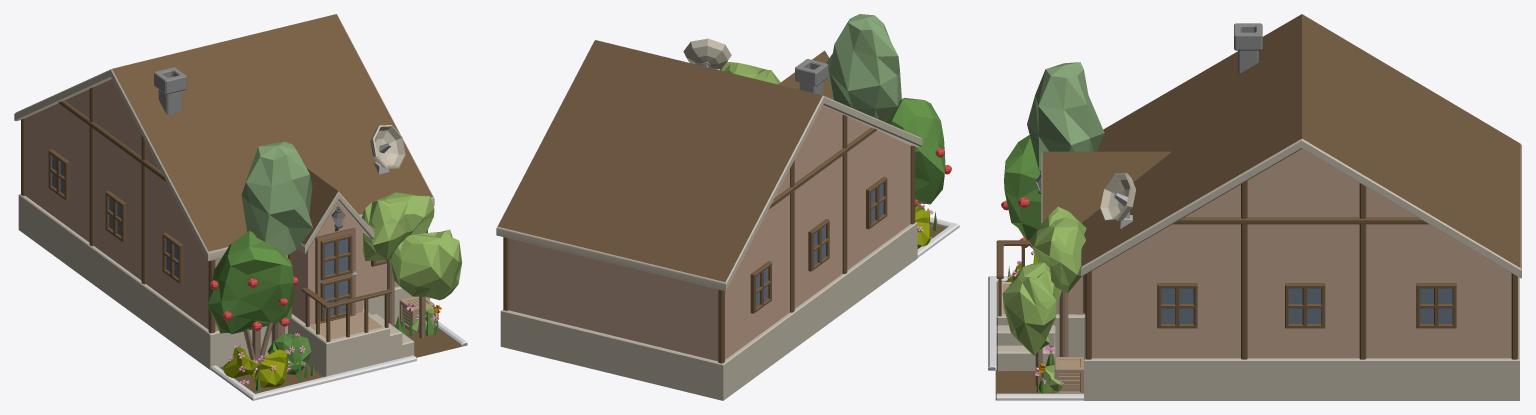
The model's file is casa_1_altura_b.fbx.
3 views of the same model, side by side, from view 1: azimuth 30°, elevation 25°; view 2: azimuth 150°, elevation 25°; view 3: azimuth 270°, elevation 25° (orthographic). The views are drawn at different scales.
Parts seen in each view (by area): view 1: casa_1_altura_a, casa_1_altura_a1, arbol_9, arbol_8, arbol_12, arbol_11, CASA_2_alturas3, ventana_192, antena1, pCube194, ventana_193, puerta_25 (+11 smaller); view 2: casa_1_altura_a, arbol_8, arbol_9, antena1, pCube194, ventana_201, ventana_200, ventana_199, pCube193, pCube191, pCube192, arbol_11 (+6 smaller); view 3: casa_1_altura_a, casa_1_altura_a1, arbol_8, arbol_12, arbol_11, arbol_9, CASA_2_alturas3, pCube186, ventana_196, ventana_198, ventana_197, antena1 (+7 smaller).
Part boxes in pixels (x1,y1,x2,y2): casa_1_altura_a: (14, 14, 434, 370); casa_1_altura_a1: (288, 168, 414, 376); arbol_9: (207, 231, 298, 365); arbol_8: (241, 141, 313, 343); arbol_12: (389, 229, 462, 338); arbol_11: (361, 192, 434, 326); CASA_2_alturas3: (211, 321, 467, 400); ventana_192: (320, 234, 352, 280); antena1: (370, 125, 405, 174); pCube194: (154, 67, 186, 115); ventana_193: (320, 275, 352, 321); puerta_25: (315, 228, 357, 323); casa_1_altura_a: (496, 40, 922, 400); arbol_8: (826, 14, 901, 121); arbol_9: (884, 98, 951, 208); antena1: (683, 38, 731, 69); pCube194: (795, 59, 828, 95); ventana_201: (750, 261, 771, 313); ventana_200: (808, 219, 829, 271); ventana_199: (866, 176, 887, 229); pCube193: (842, 115, 847, 273); pCube191: (769, 127, 877, 208); pCube192: (790, 160, 794, 312); arbol_11: (720, 61, 780, 84); casa_1_altura_a: (1081, 14, 1521, 400); casa_1_altura_a1: (996, 151, 1171, 371); arbol_8: (1027, 62, 1104, 172); arbol_12: (1002, 262, 1061, 386); arbol_11: (1029, 207, 1086, 356); arbol_9: (1001, 135, 1041, 248); CASA_2_alturas3: (988, 276, 1083, 400); pCube186: (1173, 217, 1428, 224); ventana_196: (1157, 283, 1197, 328); ventana_198: (1416, 283, 1456, 328); ventana_197: (1285, 283, 1325, 328); antena1: (1100, 172, 1135, 228).
Size of the model in its own units: 685 by 637 by 1144.
